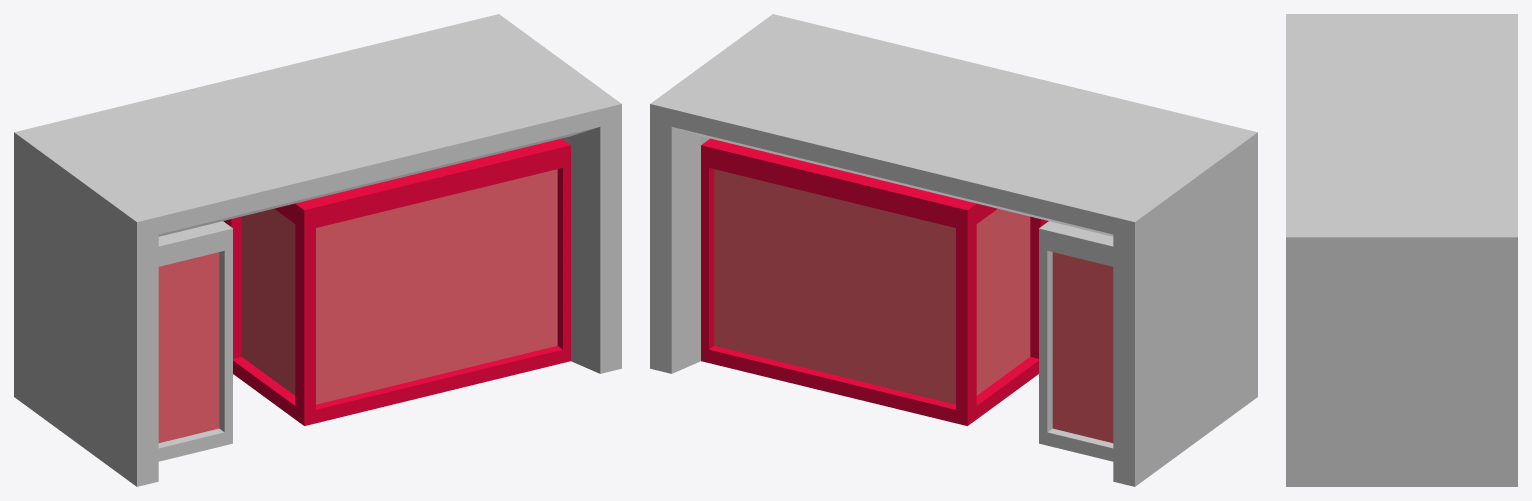
File: LeisureTIleBuilding3_low.fbx
3 views of the same model, side by side, from view 1: azimuth 30°, elevation 25°; view 2: azimuth 150°, elevation 25°; view 3: azimuth 270°, elevation 25° (orthographic). The views are drawn at different scales.
Parts seen in each view (by area): view 1: LeisureTileBuilding.003_low.001; view 2: LeisureTileBuilding.003_low.001; view 3: LeisureTileBuilding.003_low.001.
Boxes of the visible parts, x1,y1,x2,y2 form: LeisureTileBuilding.003_low.001: [14, 14, 621, 486]; LeisureTileBuilding.003_low.001: [650, 14, 1257, 486]; LeisureTileBuilding.003_low.001: [1286, 14, 1517, 486].
Size of the model in its own units: 370 by 193 by 162.
